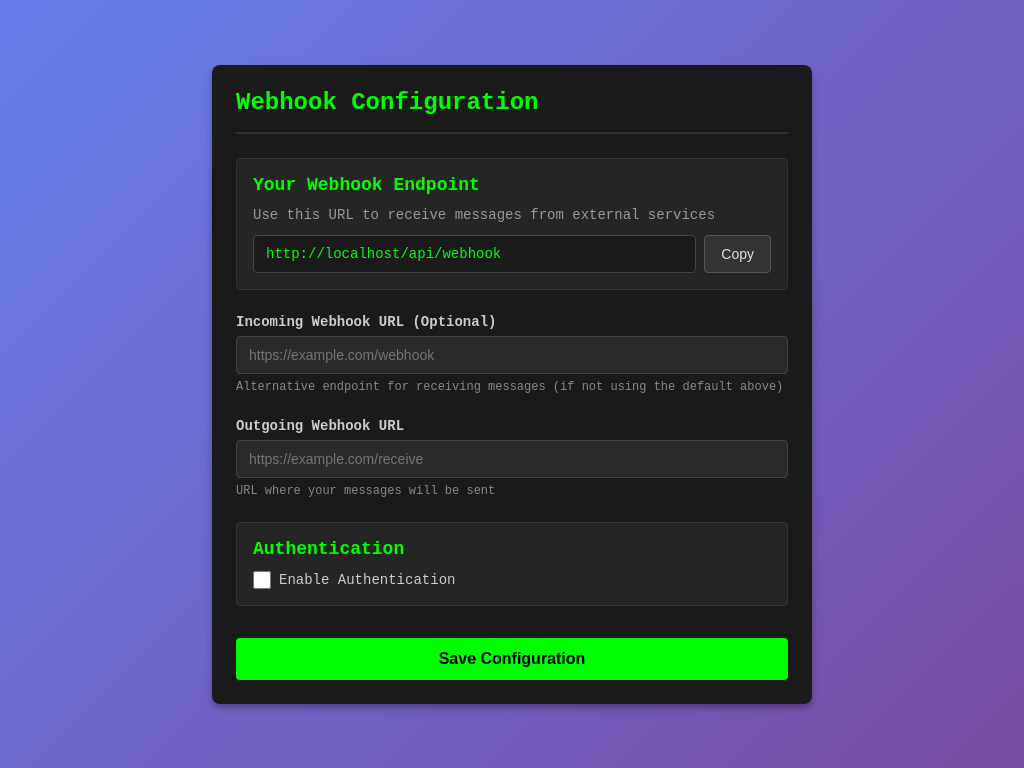
WebhookConfig › should show auth token field when auth is enabled
This screenshot has width=1024, height=768.
Click the checkbox labelled "Enable Authentication" at [262, 580], box [253, 570, 271, 588]
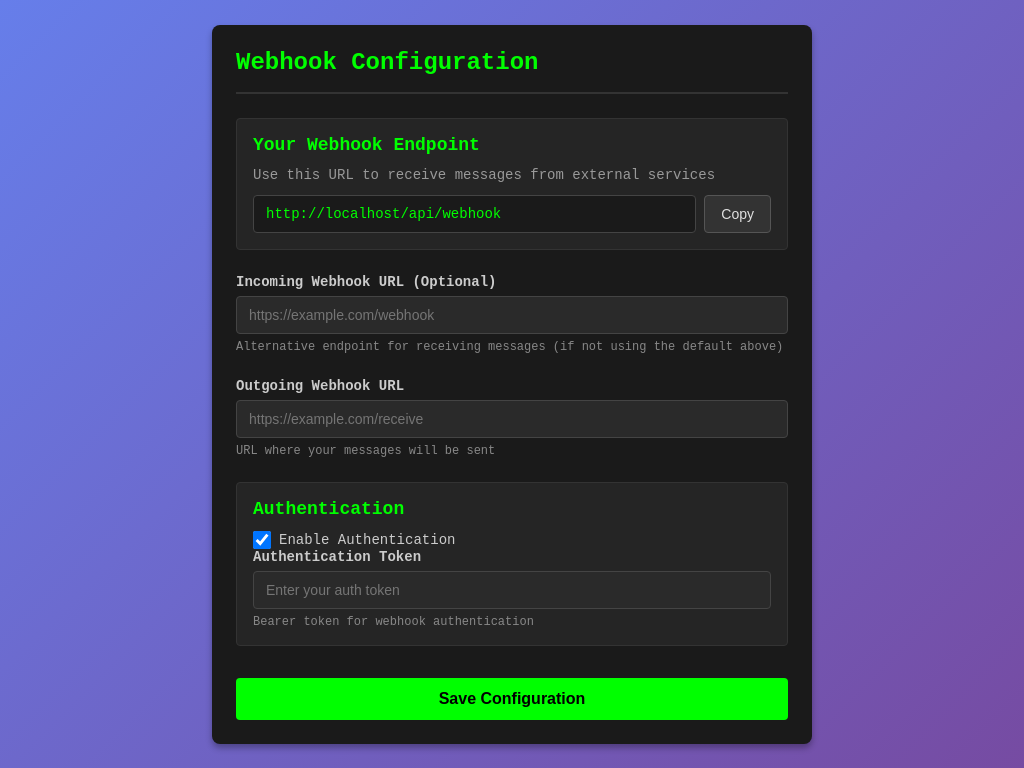
Now the password field labelled "Authentication Token" is shown, box [253, 570, 771, 608]
